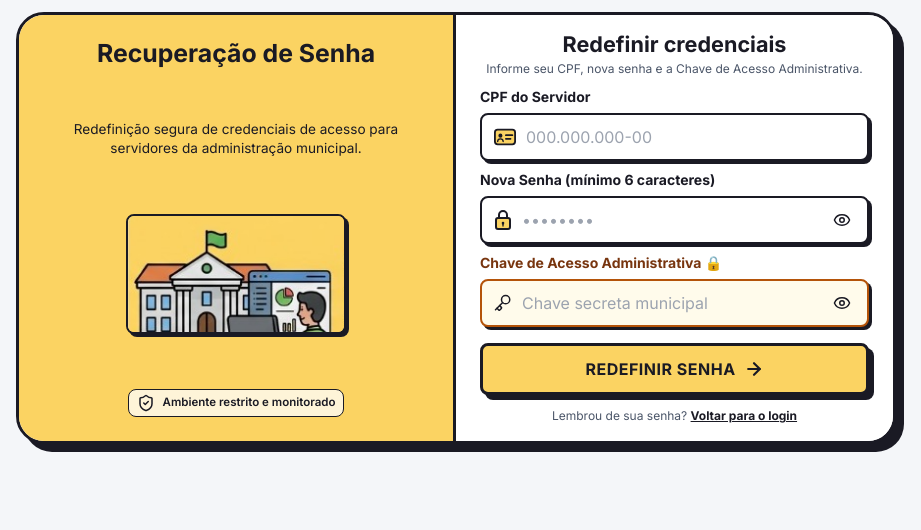
Test case: Página RecuperarSenhaPrefeitura (/esqueci-senha/prefeitura) › deve exibir mensagem de erro caso o servidor não seja encontrado
In the field labelled "CPF do Servidor": (690, 137) left=526, top=115, right=855, bottom=159, type "00011122233"
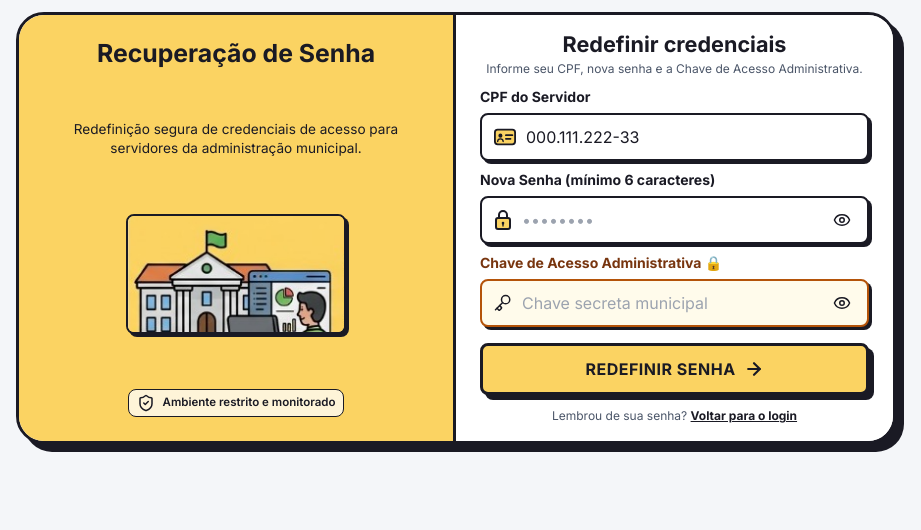
In the password field labelled "Nova Senha (mínimo 6 caracteres)": (676, 220) left=522, top=198, right=829, bottom=242, type "novaSenha123"
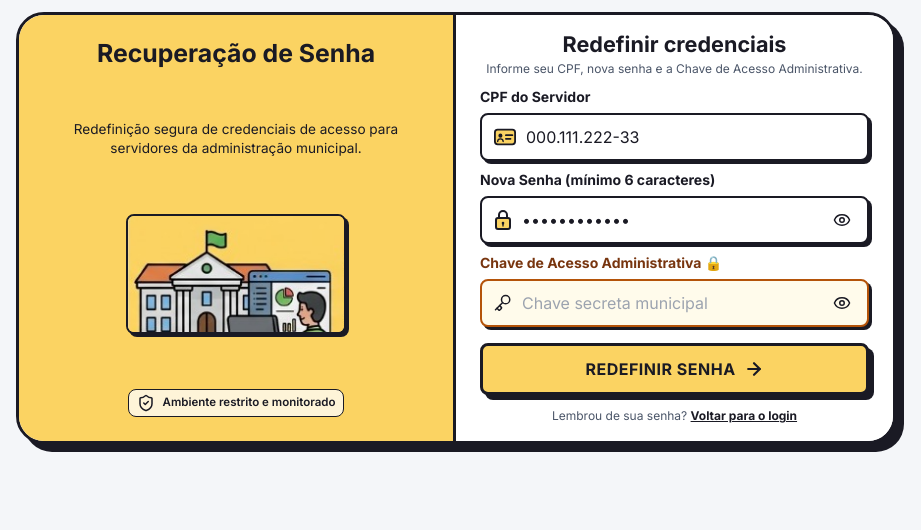
In the password field labelled "Chave de Acesso Administrativa 🔒": (676, 303) left=522, top=281, right=829, bottom=325, type "ZELUS-ADM-2026"
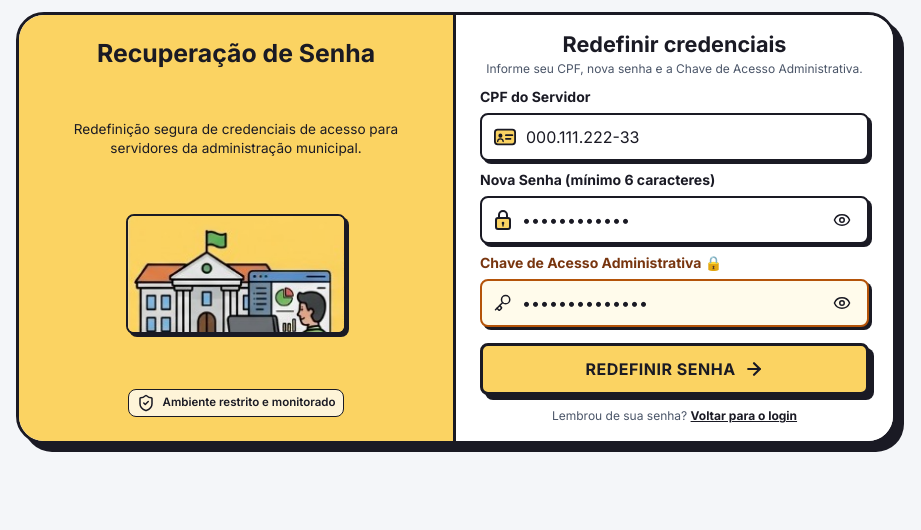
Click the button with aria-label "Confirmar alteração de senha do servidor": (674, 369) left=480, top=343, right=869, bottom=395
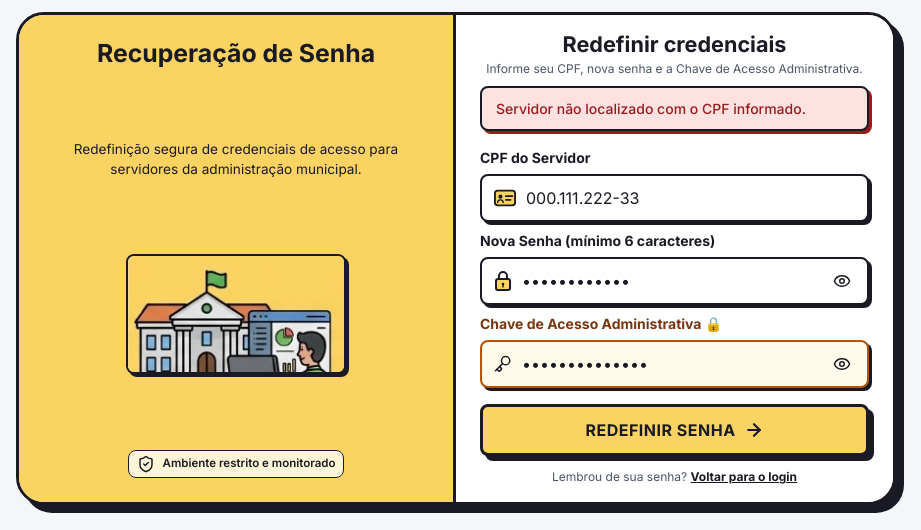
Result: the text "Servidor não localizado com o CPF informado." is shown at left=480, top=86, right=869, bottom=131
